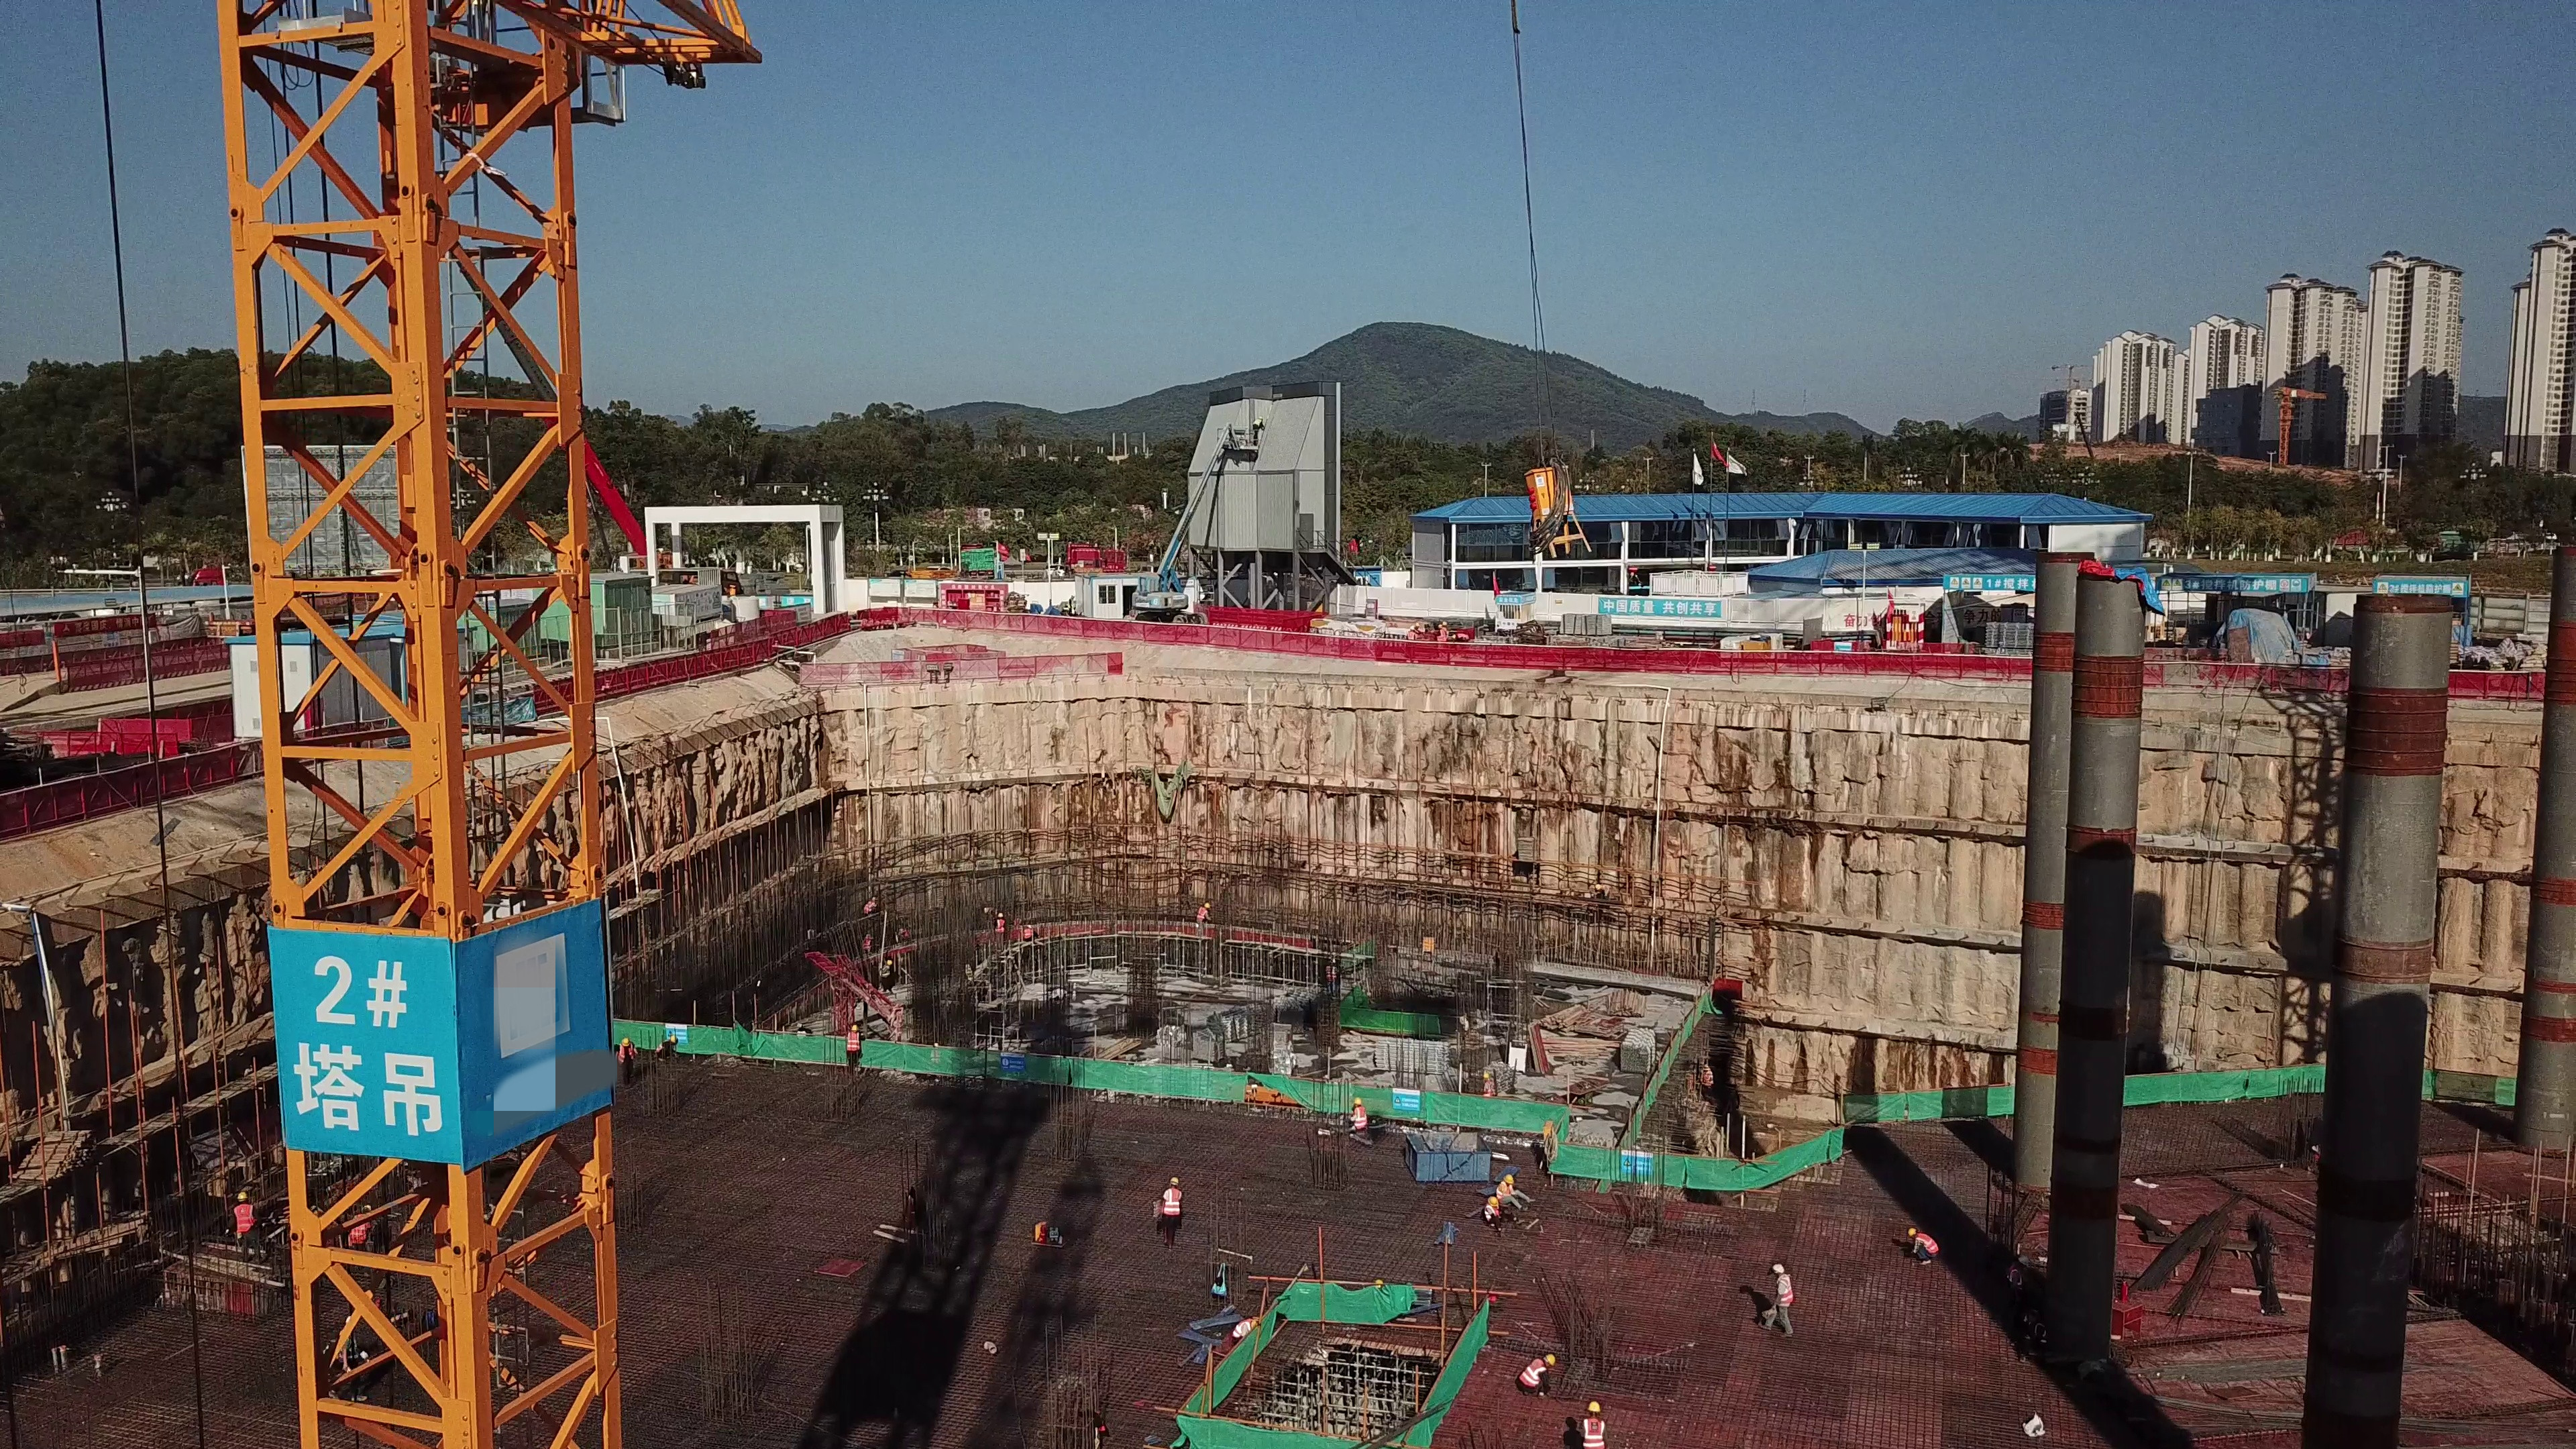helmet: (1545, 1354, 1558, 1369), (1583, 1403, 1601, 1413), (1771, 1263, 1786, 1274), (1906, 1223, 1917, 1239), (1352, 1094, 1364, 1106), (1503, 1173, 1517, 1184), (1166, 1176, 1182, 1185), (233, 1191, 246, 1201), (619, 1038, 633, 1046), (885, 958, 895, 967), (1487, 1195, 1500, 1205), (1481, 1070, 1494, 1080), (669, 1036, 679, 1046), (851, 1023, 862, 1030), (1203, 903, 1210, 909), (998, 913, 1004, 918), (1024, 923, 1035, 928)
person: (1760, 1258, 1798, 1348), (1148, 1176, 1189, 1240), (1515, 1344, 1560, 1399), (1905, 1218, 1945, 1275), (225, 1189, 260, 1247), (842, 1020, 873, 1082), (340, 1203, 372, 1261), (1346, 1094, 1379, 1152), (1574, 1401, 1611, 1449), (612, 1037, 640, 1090), (1191, 902, 1215, 941), (1475, 1069, 1500, 1104), (990, 911, 1012, 950), (1478, 1196, 1503, 1226), (1494, 1173, 1526, 1196), (1402, 620, 1421, 659), (652, 1035, 680, 1063), (876, 955, 898, 987), (1698, 1061, 1715, 1097), (861, 896, 883, 921), (894, 926, 914, 951), (860, 931, 876, 954), (1020, 924, 1038, 942)
vest: (1520, 1357, 1548, 1388), (1159, 1187, 1183, 1218), (1775, 1277, 1795, 1309), (1583, 1418, 1607, 1448), (232, 1206, 253, 1236), (1917, 1234, 1939, 1257), (350, 1215, 368, 1248), (619, 1045, 637, 1069), (849, 1033, 863, 1062), (1496, 1183, 1518, 1199), (1483, 1204, 1503, 1220), (1353, 1106, 1368, 1128), (653, 1039, 667, 1060), (1022, 929, 1036, 941), (1195, 907, 1206, 923), (1701, 1072, 1712, 1089), (1483, 1079, 1493, 1096), (881, 965, 892, 981), (863, 938, 875, 949), (866, 900, 876, 915), (996, 920, 1004, 934)
